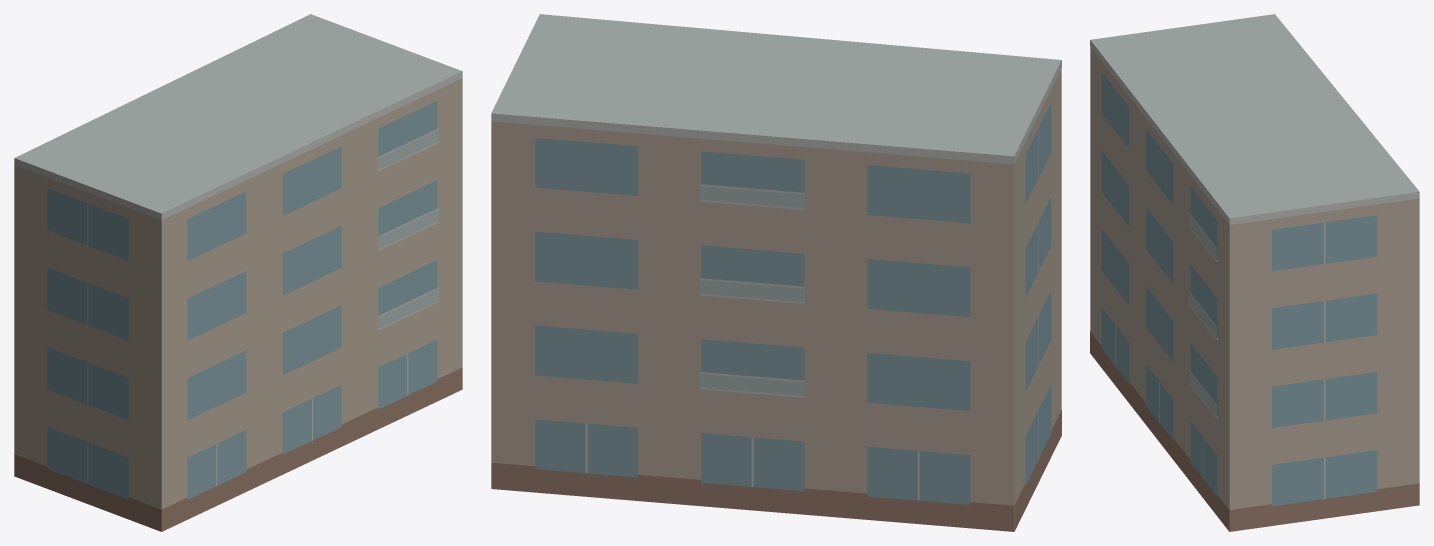
File: survey-upis-32612199.glb
3 renders of one model, left to right at view 1: azimuth 30°, elevation 25°; view 2: azimuth 150°, elevation 25°; view 3: azimuth 270°, elevation 25°, orthographic. The views are drawn at different scales.
Visible parts, largest first — view 1: survey-upis-32612199.tmp; view 2: survey-upis-32612199.tmp; view 3: survey-upis-32612199.tmp.
Part boxes in pixels (x1=…): survey-upis-32612199.tmp: x1=14, y1=14, x2=462, y2=531; survey-upis-32612199.tmp: x1=491, y1=14, x2=1061, y2=531; survey-upis-32612199.tmp: x1=1090, y1=14, x2=1419, y2=531.
Size of the model in its own units: 15.95 by 11.4 by 10.87.
